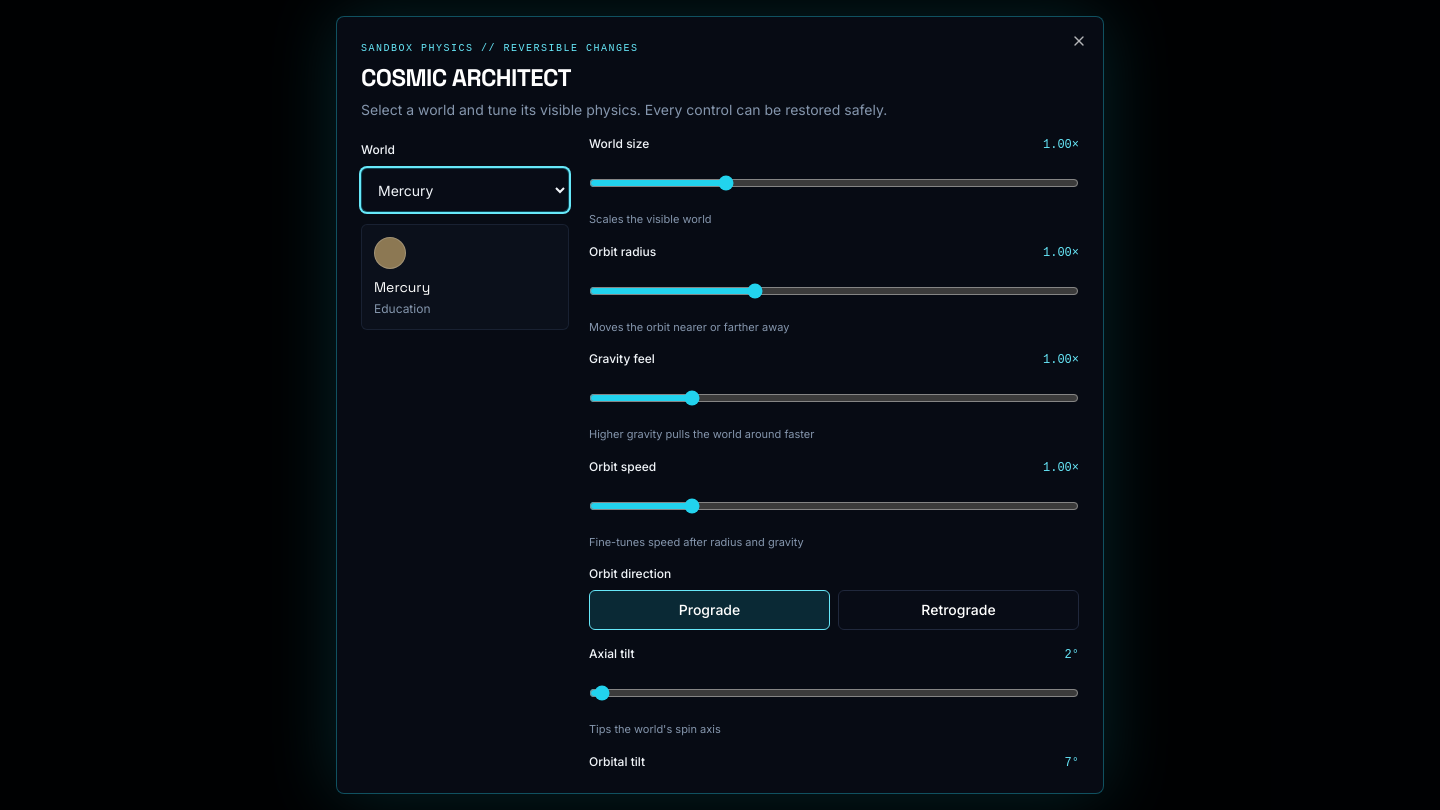
CosmicArchitectPanel › updates a selected world through accessible controls and resets it
Select "Earth" in the dropdown labelled "World": (465, 190) 361,168 -> 569,212
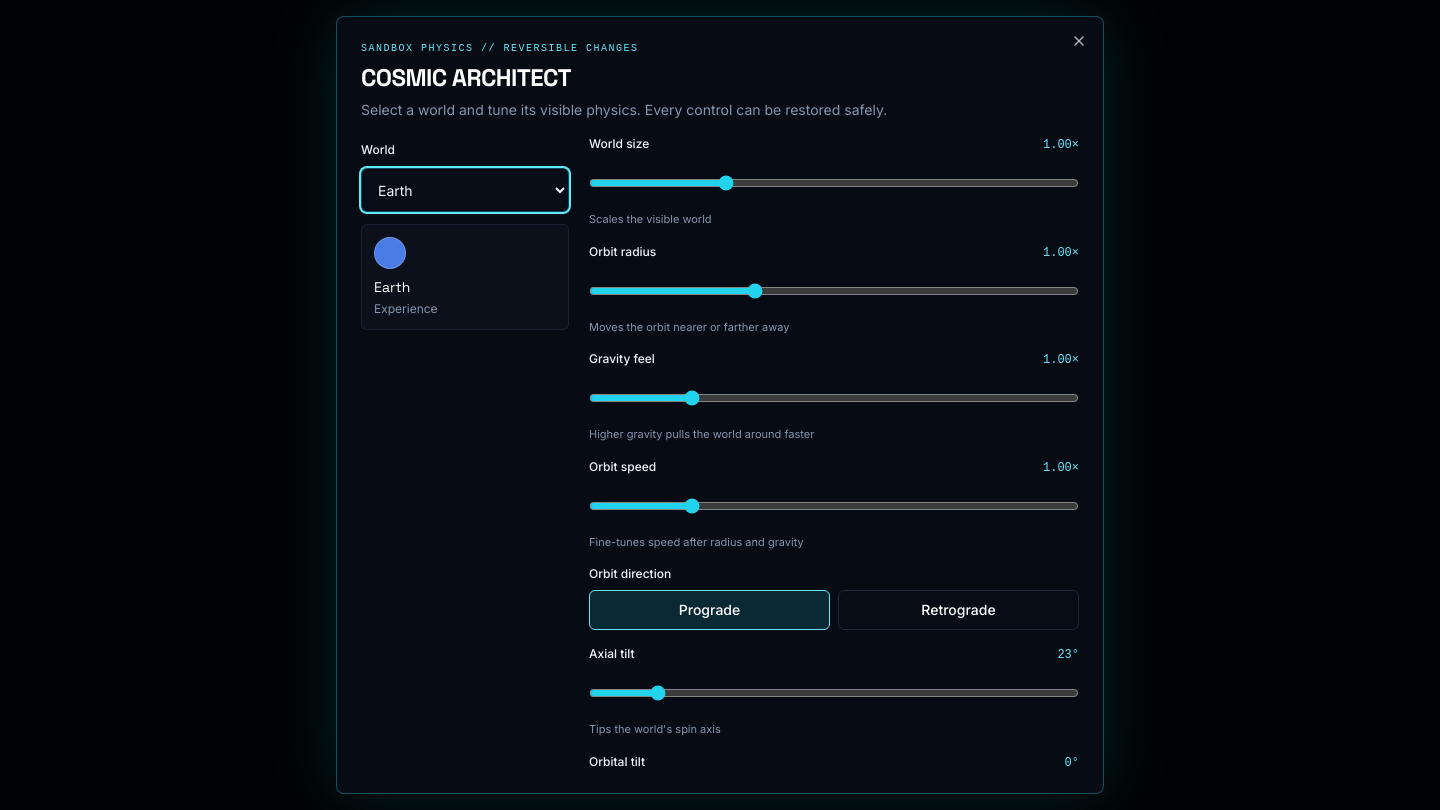
Set the slider labelled "World size" to "1.75": (856, 183) 589,161 -> 1079,205
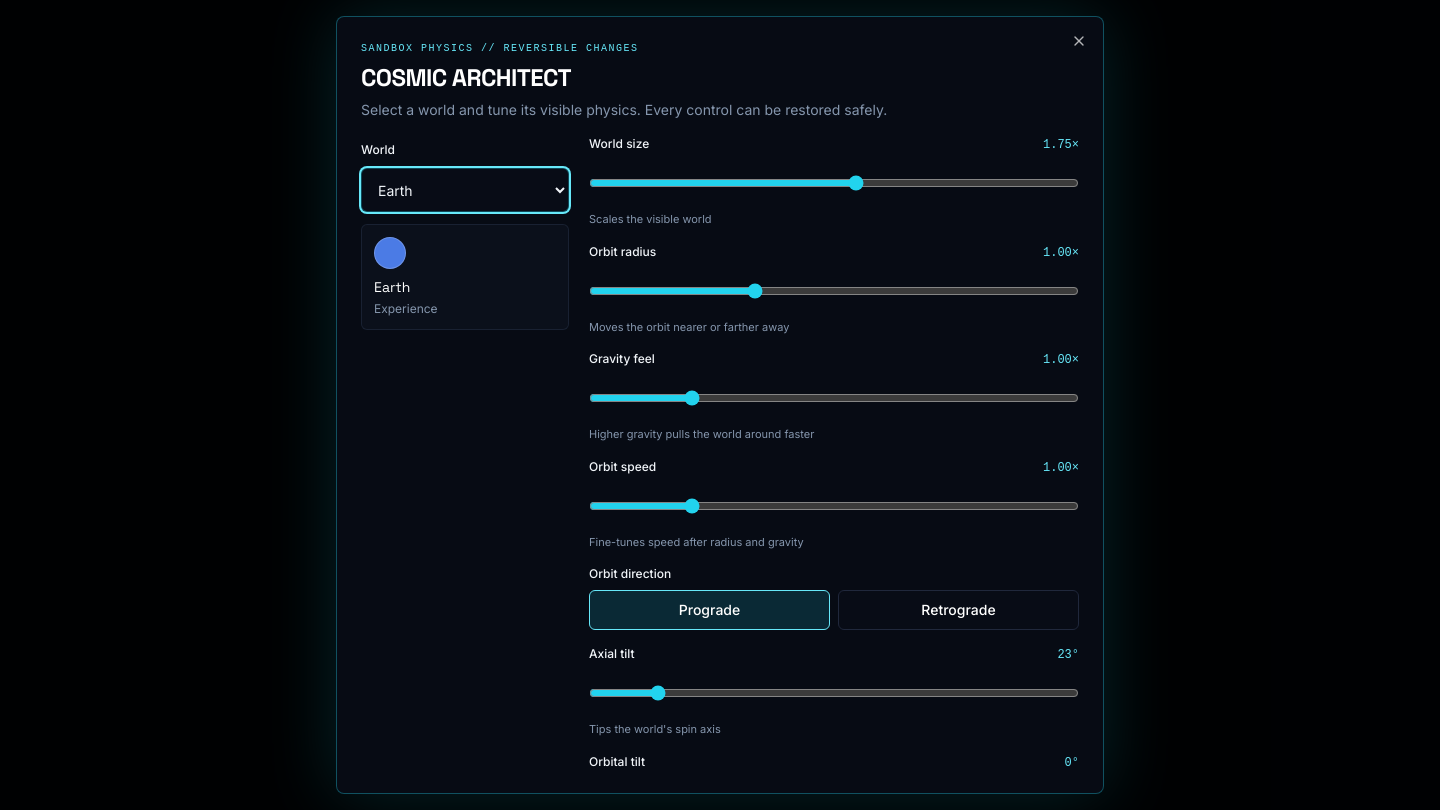
Click the button "Retrograde": (958, 610) 838,590 -> 1079,630
(page scrolled)
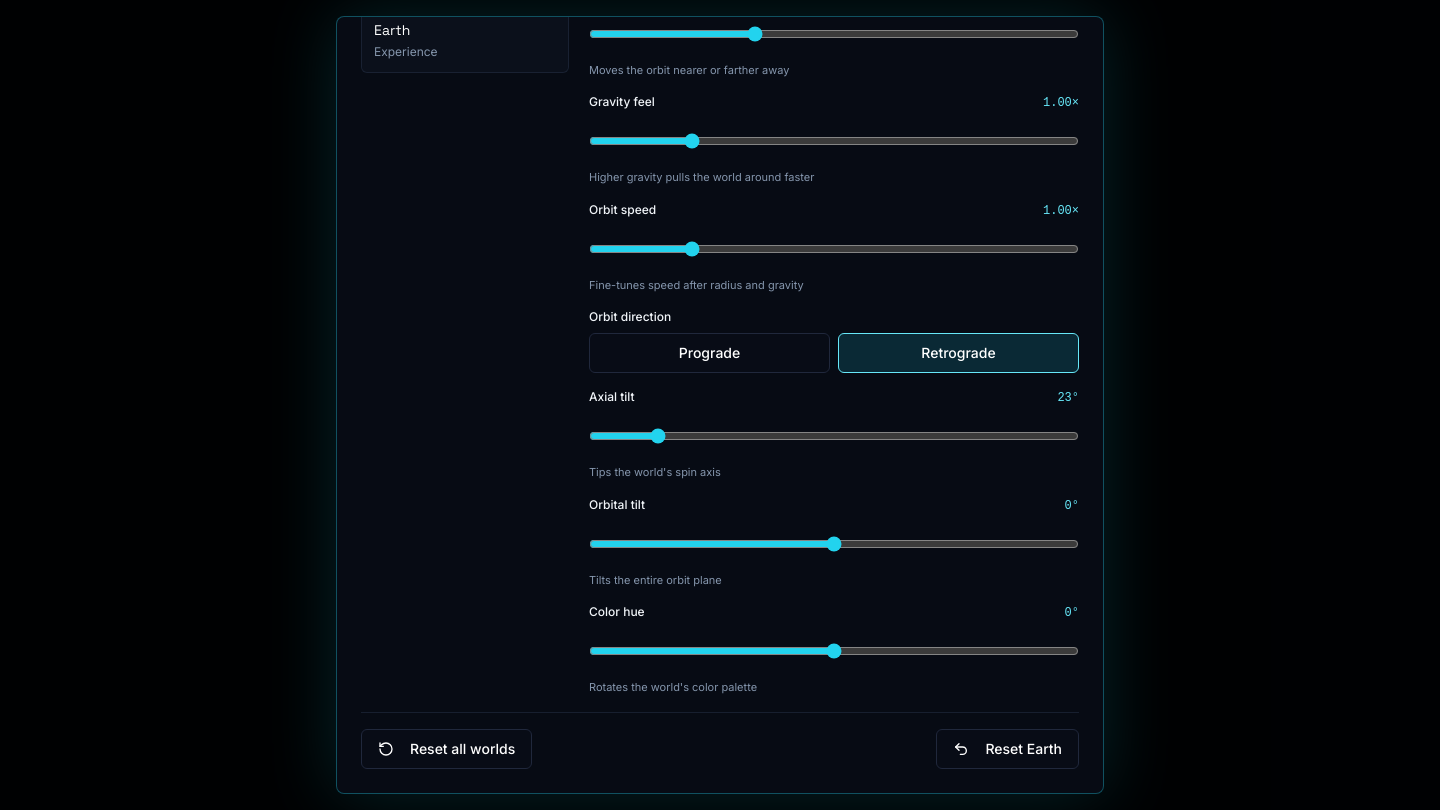
Check: the button "Retrograde" is pressed, box 838,333 -> 1079,373
Click the button "Reset Earth": (1008, 748) 936,728 -> 1079,768
(page scrolled)
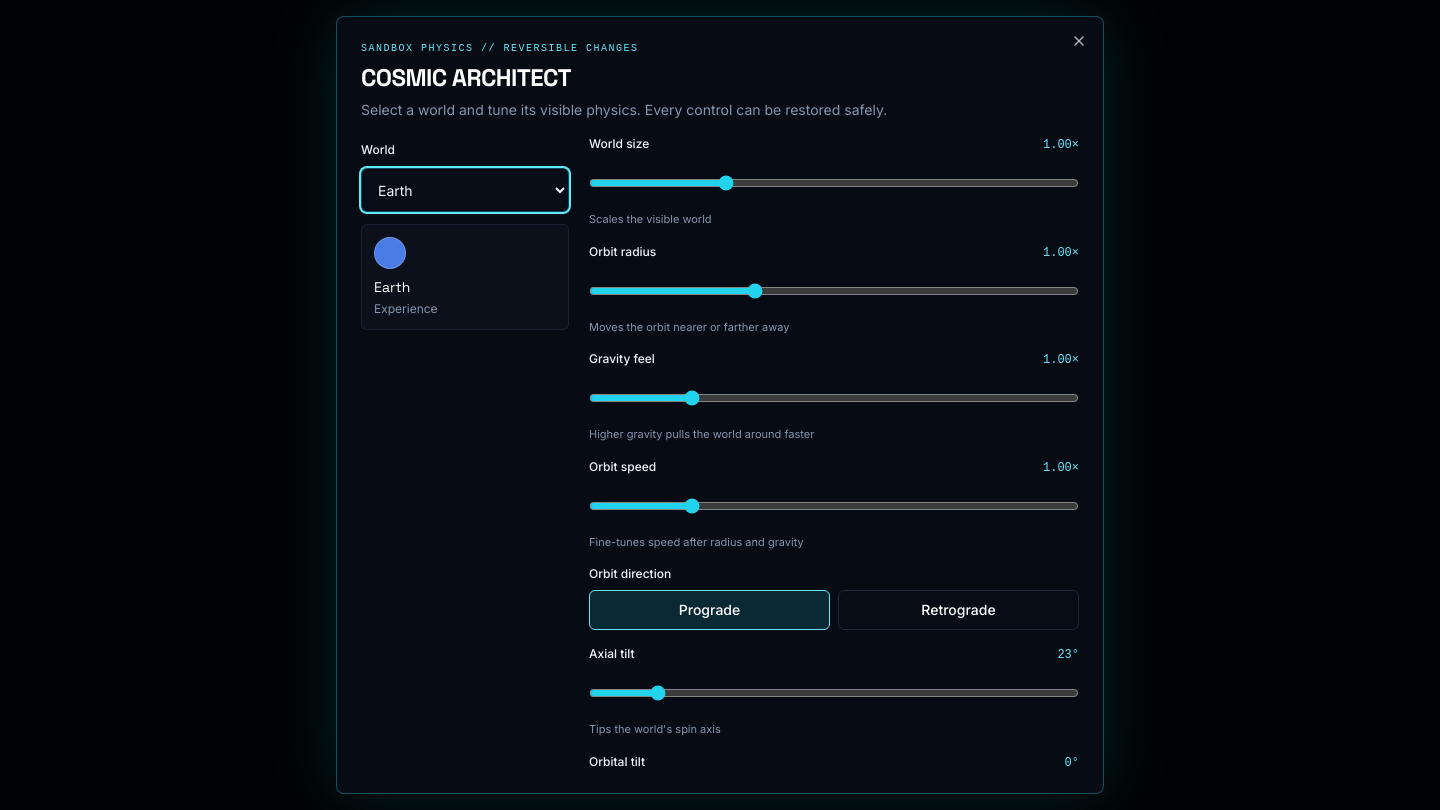
Check: the slider labelled "World size" holds "1", box 589,161 -> 1079,205
